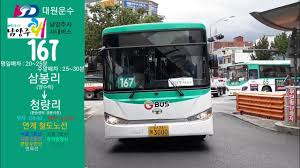bnum: (117, 77, 135, 89)
